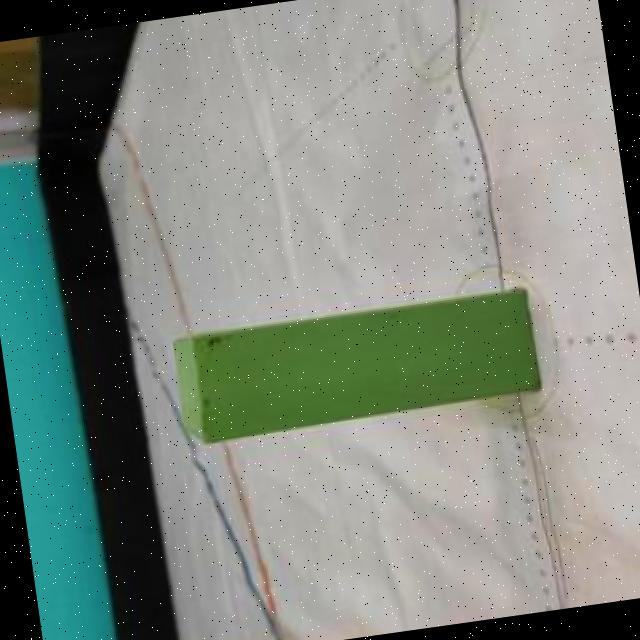greenbox: (172, 289, 544, 446)
